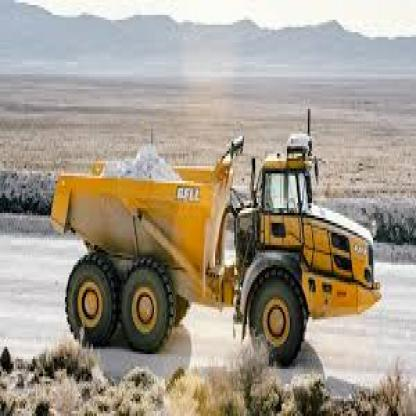dump_truck: (41, 96, 390, 379)
